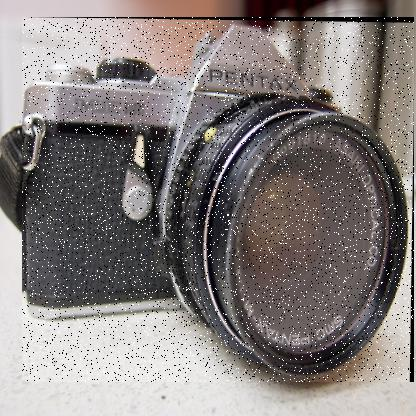Camera: (23, 18, 416, 384)
